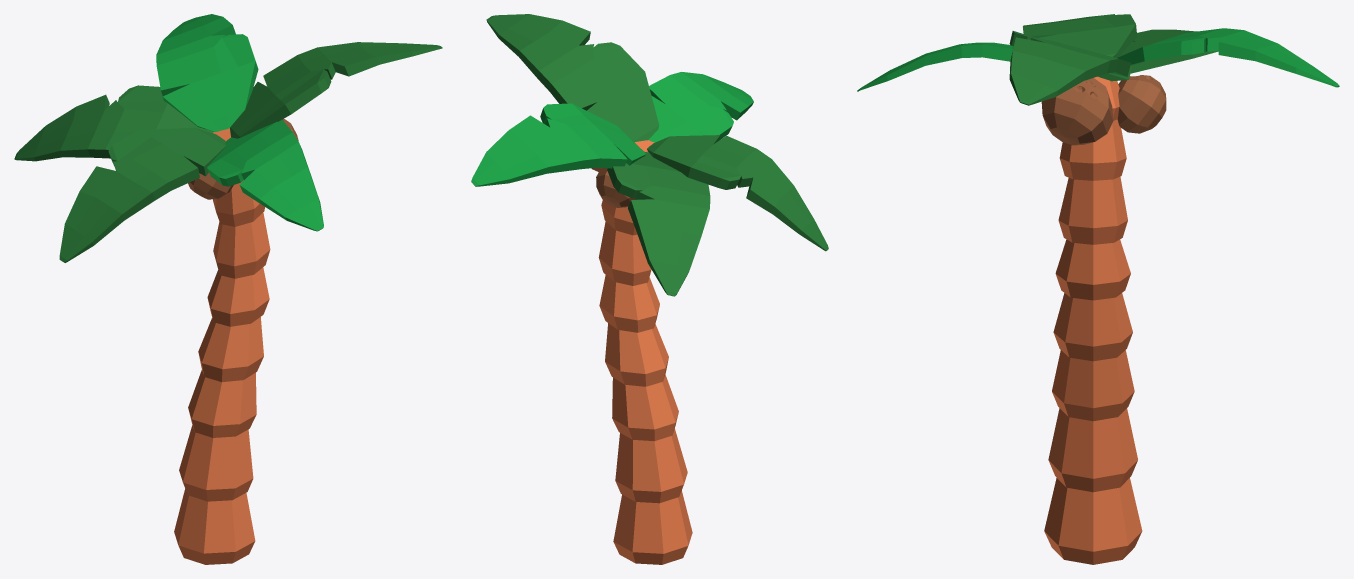
The model's file is FinalPalmTree.fbx.
3 renders of one model, left to right at view 1: azimuth 30°, elevation 25°; view 2: azimuth 150°, elevation 25°; view 3: azimuth 270°, elevation 25°, orthographic. The views are drawn at different scales.
Visible parts, largest first — view 1: Palmtree, TreePart1, PamTreeStomp, TreePart3; view 2: Palmtree, TreePart1, PamTreeStomp, TreePart3; view 3: Palmtree, TreePart1, TreePart3, PamTreeStomp.
Boxes of the visible parts, x1,y1,x2,y2 form: Palmtree: (14,14,442,262); TreePart1: (179,267,269,501); PamTreeStomp: (174,489,255,564); TreePart3: (213,128,270,278); Palmtree: (471,14,828,296); TreePart1: (599,275,687,503); PamTreeStomp: (613,490,692,564); TreePart3: (598,140,654,285); Palmtree: (857,14,1339,145); TreePart1: (1048,239,1137,492); TreePart3: (1058,76,1127,244); PamTreeStomp: (1044,478,1142,564).
Size of the model in its own units: 1238 by 1580 by 1215.
